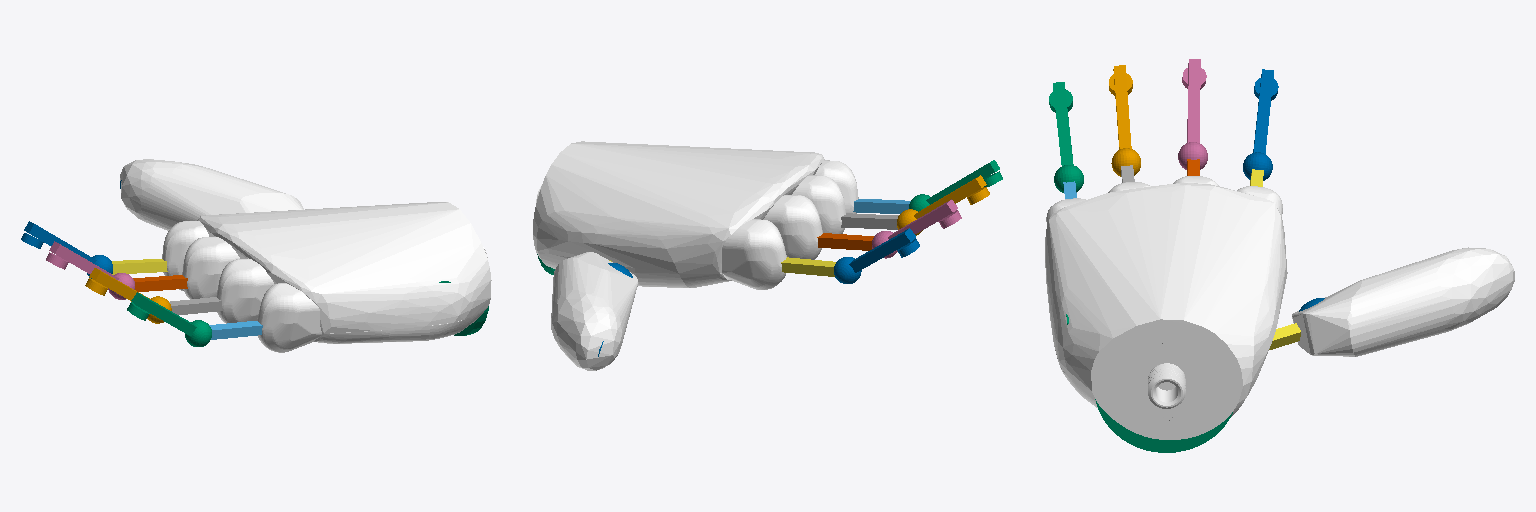
--- Facts derived from the render (not from the file) ---
3 views of the same robot in one strip: view 1: azimuth 30°, elevation 25°; view 2: azimuth 150°, elevation 25°; view 3: azimuth 270°, elevation 25° (orthographic).
Robot: panda — 21 links, 20 joints (17 revolute, 3 fixed); root link panda_link0; default pose: joints at zero except 1 at the middle of their limits (panda_joint4 = -1.57).
Links seen in each view (by area): view 1: wrist, thumb_L2, pinky_L2, middle_L2, ring_L2, index_L2, pinky_L1, middle_L1, index_L1, ring_L1; view 2: wrist, thumb_L2, index_L2, middle_L2, ring_L2, pinky_L2, ring_L1, middle_L1, index_L1, pinky_L1; view 3: wrist, thumb_L2, index_L2, middle_L2, ring_L2, pinky_L2.
Boxes of the visible links, x1,y1,x2,y2 form: wrist: (162, 202, 491, 352); thumb_L2: (120, 159, 303, 230); pinky_L2: (127, 292, 211, 346); middle_L2: (46, 241, 134, 299); ring_L2: (85, 268, 171, 323); index_L2: (21, 221, 112, 278); pinky_L1: (209, 321, 262, 339); middle_L1: (133, 275, 187, 291); index_L1: (112, 259, 167, 274); ring_L1: (169, 297, 221, 314); wrist: (533, 141, 858, 289); thumb_L2: (551, 252, 637, 370); index_L2: (834, 228, 919, 283); middle_L2: (872, 199, 961, 258); ring_L2: (897, 175, 989, 235); pinky_L2: (909, 160, 1002, 211); ring_L1: (841, 213, 898, 229); middle_L1: (817, 233, 873, 250); index_L1: (781, 257, 835, 276); pinky_L1: (853, 199, 910, 213); wrist: (1045, 176, 1287, 452); thumb_L2: (1292, 247, 1514, 356); index_L2: (1243, 69, 1278, 180); middle_L2: (1178, 59, 1207, 169); ring_L2: (1109, 65, 1140, 176); pinky_L2: (1049, 82, 1083, 192).
Size in the robot's own frame: 0.1767 by 0.1565 by 0.0689 metres.
2 mesh visuals loaded from 14 distinct referenced files (2 binary STL); not drawn: 13 (reference not matched to a file when rendering), 5 (file found but could not be loaded).

URDF robot description (panda):
<?xml version="1.0" encoding="utf-8"?>
<robot name="panda">
  <material name="panda_white">
    <color rgba="1 1 1 1"/>
  </material>
  <material name="panda_gray">
    <color rgba="0.4 0.4 0.4 1"/>
  </material>
  <material name="silver">
    <color rgba="0.5 0.5 0.5 1"/>
  </material>
  <link name="panda_link0">
    <visual>
      <geometry>
        <mesh filename="meshes/visual/link0.dae"/>
      </geometry>
      <material name="panda_gray"/>
    </visual>
    <collision>
      <geometry>
        <mesh filename="meshes/collision/link0.stl"/>
      </geometry>
    </collision>
  </link>
  <link name="panda_link1">
    <visual>
      <geometry>
        <mesh filename="meshes/visual/link1.dae"/>
      </geometry>
      <material name="panda_white"/>
    </visual>
    <collision>
      <geometry>
        <mesh filename="meshes/collision/link1.stl"/>
      </geometry>
    </collision>
    <inertial>
      <origin rpy="0 0 0" xyz="3.875e-03 2.081e-03 -0.1750"/>
      <mass value="4.970684"/>
      <inertia ixx="7.0337e-01" ixy="-1.3900e-04" ixz="6.7720e-03" iyy="7.0661e-01" iyz="1.9169e-02" izz="9.1170e-03"/>
    </inertial>
  </link>
  <joint name="panda_joint1" type="revolute">
    <safety_controller k_position="100.0" k_velocity="40.0" soft_lower_limit="-2.8973" soft_upper_limit="2.8973"/>
    <origin rpy="0 0 0" xyz="0 0 0.333"/>
    <parent link="panda_link0"/>
    <child link="panda_link1"/>
    <axis xyz="0 0 1"/>
    <limit effort="87" lower="-2.8973" upper="2.8973" velocity="2.1750"/>
    <dynamics damping="10.0" friction="5.0"/>
  </joint>
  <link name="panda_link2">
    <visual>
      <geometry>
        <mesh filename="meshes/visual/link2.dae"/>
      </geometry>
      <material name="panda_white"/>
    </visual>
    <collision>
      <geometry>
        <mesh filename="meshes/collision/link2.stl"/>
      </geometry>
    </collision>
    <inertial>
      <origin rpy="0 0 0" xyz="-3.141e-03 -2.872e-02 3.495e-03"/>
      <mass value="0.646926"/>
      <inertia ixx="7.9620e-03" ixy="-3.9250e-03" ixz="1.0254e-02" iyy="2.8110e-02" iyz="7.0400e-04" izz="2.5995e-02"/>
    </inertial>
  </link>
  <joint name="panda_joint2" type="revolute">
    <safety_controller k_position="100.0" k_velocity="40.0" soft_lower_limit="-1.7628" soft_upper_limit="1.7628"/>
    <origin rpy="-1.57079632679 0 0" xyz="0 0 0"/>
    <parent link="panda_link1"/>
    <child link="panda_link2"/>
    <axis xyz="0 0 1"/>
    <limit effort="87" lower="-1.7628" upper="1.7628" velocity="2.1750"/>
    <dynamics damping="5.0" friction="2.0"/>
  </joint>
  <link name="panda_link3">
    <visual>
      <geometry>
        <mesh filename="meshes/visual/link3.dae"/>
      </geometry>
      <material name="panda_white"/>
    </visual>
    <collision>
      <geometry>
        <mesh filename="meshes/collision/link3.stl"/>
      </geometry>
    </collision>
    <inertial>
      <origin rpy="0 0 0" xyz="2.7518e-02 3.9252e-02 -6.6502e-02"/>
      <mass value="3.228604"/>
      <inertia ixx="3.7242e-02" ixy="-4.7610e-03" ixz="-1.1396e-02" iyy="3.6155e-02" iyz="-1.2805e-02" izz="1.0830e-02"/>
    </inertial>
  </link>
  <joint name="panda_joint3" type="revolute">
    <safety_controller k_position="100.0" k_velocity="40.0" soft_lower_limit="-2.8973" soft_upper_limit="2.8973"/>
    <origin rpy="1.57079632679 0 0" xyz="0 -0.316 0"/>
    <parent link="panda_link2"/>
    <child link="panda_link3"/>
    <axis xyz="0 0 1"/>
    <limit effort="87" lower="-2.8973" upper="2.8973" velocity="2.1750"/>
    <dynamics damping="5.0" friction="2.0"/>
  </joint>
  <link name="panda_link4">
    <visual>
      <geometry>
        <mesh filename="meshes/visual/link4.dae"/>
      </geometry>
      <material name="panda_white"/>
    </visual>
    <collision>
      <geometry>
        <mesh filename="meshes/collision/link4.stl"/>
      </geometry>
    </collision>
    <inertial>
      <origin rpy="0 0 0" xyz="-5.317e-02 1.04419e-01 2.7454e-02"/>
      <mass value="3.587895"/>
      <inertia ixx="2.5853e-02" ixy="7.7960e-03" ixz="-1.3320e-03" iyy="1.9552e-02" iyz="8.6410e-03" izz="2.8323e-02"/>
    </inertial>
  </link>
  <joint name="panda_joint4" type="revolute">
    <safety_controller k_position="100.0" k_velocity="40.0" soft_lower_limit="-3.0718" soft_upper_limit="-0.0698"/>
    <origin rpy="1.57079632679 0 0" xyz="0.0825 0 0"/>
    <parent link="panda_link3"/>
    <child link="panda_link4"/>
    <axis xyz="0 0 1"/>
    <limit effort="87" lower="-3.0718" upper="-0.0698" velocity="2.1750"/>
    <dynamics damping="1.0" friction="0.5"/>
  </joint>
  <link name="panda_link5">
    <visual>
      <geometry>
        <mesh filename="meshes/visual/link5.dae"/>
      </geometry>
      <material name="panda_white"/>
    </visual>
    <collision>
      <geometry>
        <mesh filename="meshes/collision/link5.stl"/>
      </geometry>
    </collision>
    <inertial>
      <origin rpy="0 0 0" xyz="-1.1953e-02 4.1065e-02 -3.8437e-02"/>
      <mass value="1.225946"/>
      <inertia ixx="3.5549e-02" ixy="-2.1170e-03" ixz="-4.0370e-03" iyy="2.9474e-02" iyz="2.2900e-04" izz="8.6270e-03"/>
    </inertial>
  </link>
  <joint name="panda_joint5" type="revolute">
    <safety_controller k_position="100.0" k_velocity="40.0" soft_lower_limit="-2.8973" soft_upper_limit="2.8973"/>
    <origin rpy="-1.57079632679 0 0" xyz="-0.0825 0.384 0"/>
    <parent link="panda_link4"/>
    <child link="panda_link5"/>
    <axis xyz="0 0 1"/>
    <limit effort="12" lower="-2.8973" upper="2.8973" velocity="2.6100"/>
    <dynamics damping="2.0" friction="1.0"/>
  </joint>
  <link name="panda_link6">
    <visual>
      <geometry>
        <mesh filename="meshes/visual/link6.dae"/>
      </geometry>
      <material name="panda_white"/>
    </visual>
    <collision>
      <geometry>
        <mesh filename="meshes/collision/link6.stl"/>
      </geometry>
    </collision>
    <inertial>
      <origin rpy="0 0 0" xyz="6.0149e-02 -1.4117e-02 -1.0517e-02"/>
      <mass value="1.666555"/>
      <inertia ixx="1.9640e-03" ixy="1.0900e-04" ixz="-1.1580e-03" iyy="4.3540e-03" iyz="3.4100e-04" izz="5.4330e-03"/>
    </inertial>
  </link>
  <joint name="panda_joint6" type="revolute">
    <safety_controller k_position="100.0" k_velocity="40.0" soft_lower_limit="-0.0175" soft_upper_limit="3.7525"/>
    <origin rpy="1.57079632679 0 0" xyz="0 0 0"/>
    <parent link="panda_link5"/>
    <child link="panda_link6"/>
    <axis xyz="0 0 1"/>
    <limit effort="12" lower="-0.0175" upper="3.7525" velocity="2.6100"/>
    <dynamics damping="1.0" friction="0.5"/>
  </joint>
  <link name="panda_link7">
    <visual>
      <geometry>
        <mesh filename="meshes/visual/link7.dae"/>
      </geometry>
      <material name="panda_gray"/>
    </visual>
    <collision>
      <geometry>
        <mesh filename="meshes/collision/link7.stl"/>
      </geometry>
    </collision>
    <inertial>
      <origin rpy="0 0 0" xyz="1.0517e-02 -4.252e-03 6.1597e-02"/>
      <mass value="7.35522e-01"/>
      <inertia ixx="1.2516e-02" ixy="-4.2800e-04" ixz="-1.1960e-03" iyy="1.0027e-02" iyz="-7.4100e-04" izz="4.8150e-03"/>
    </inertial>
  </link>
  <joint name="panda_joint7" type="revolute">
    <safety_controller k_position="100.0" k_velocity="40.0" soft_lower_limit="-2.8973" soft_upper_limit="2.8973"/>
    <origin rpy="1.57079632679 0 0" xyz="0.088 0 0"/>
    <parent link="panda_link6"/>
    <child link="panda_link7"/>
    <axis xyz="0 0 1"/>
    <limit effort="12" lower="-2.8973" upper="2.8973" velocity="2.6100"/>
    <dynamics damping="1.0" friction="0.5"/>
  </joint>
  <link name="panda_link8">
    <inertial>
      <origin rpy="0 0 0" xyz="0 0 0"/>
      <mass value="0.0"/>
      <inertia ixx="0.001" ixy="0.0" ixz="0.0" iyy="0.001" iyz="0.0" izz="0.001"/>
    </inertial>
  </link>
  <joint name="panda_joint8" type="fixed">
    <origin rpy="0 0 0" xyz="0 0 0.107"/>
    <parent link="panda_link7"/>
    <child link="panda_link8"/>
    <axis xyz="0 0 0"/>
  </joint>
  <link name="wrist_connector">
    <visual>
      <origin rpy="0 0 0" xyz="0 0 0"/>
      <geometry>
        <mesh scale="0.001 0.001 0.001" filename="meshes/visual/connector.stl"/>
      </geometry>
      <material name="panda_white"/>
    </visual>
  </link>
  <joint name="arm_to_connector" type="fixed">
    <origin xyz="0 0 0.008" rpy="1.57 0 1.57"/>
    <parent link="panda_link8"/>
    <child link="wrist_connector"/>
    <axis xyz="0 0 0"/>
  </joint>
  <link name="wrist">
    <inertial>
      <mass value="0.400"/>
      <inertia ixx="978.26e-6" ixy="87.34e-6" ixz="322.99e-6" iyy="1244.78e-6" iyz="244.74e-6" izz="456.22e-6"/>
      <origin xyz="22.41911e-3 -0.15798201e-3 -0.01319866e-3" rpy="0 0 0"/>
    </inertial>
    <!--WristPlateBone-->
    <visual>
      <origin xyz="27.412417e-3 -0.454432e-3 26.510489e-3" rpy="0.006361 -0.088345 3.069623"/>
      <geometry>
        <cylinder length="3.9e-3" radius="24.05e-3"/>
      </geometry>
    </visual>
    <!--Wrist Bone 2-->
    <visual>
      <origin xyz="36.796220e-3 -8.001000e-3 12.124025e-3" rpy="-3.086612 -0.059956 2.398653"/>
      <geometry>
        <cylinder length="25.000660e-3" radius="3.500000e-3"/>
      </geometry>
    </visual>
    <!--Wrist Bone-->
    <visual>
      <origin xyz="8.509640e-3 -8.001000e-3 14.636040e-3" rpy="-0.059614 0.065548 -0.738965"/>
      <geometry>
        <cylinder length="25.000001e-3" radius="3.500000e-3"/>
      </geometry>
    </visual>
    <!--Bar Bone-->
    <visual>
      <origin xyz="25.349180e-3 -8.001000e-3 0.000000e-3" rpy="1.570796 -0.785398 -1.570796"/>
      <geometry>
        <cylinder length="66.000000e-3" radius="7.00000e-3"/>
      </geometry>
    </visual>
    <!--Pinky Bone-->
    <visual>
      <origin xyz="50.889805e-3 -8.753450e-3 -29.632815e-3" rpy="-0.076208 -0.019754 -0.799369"/>
      <geometry>
        <cylinder length="67.000008e-3" radius="3.500000e-3"/>
      </geometry>
    </visual>
    <!--Ringbone Bone-->
    <visual>
      <origin xyz="31.064135e-3 -10.290505e-3 -34.034900e-3" rpy="-0.103572 -0.064539 -0.831114"/>
      <geometry>
        <cylinder length="67.000202e-3" radius="3.500000e-3"/>
      </geometry>
    </visual>
    <!--Middlebone Bone-->
    <visual>
      <origin xyz="12.268540e-3 -12.148345e-3 -34.606210e-3" rpy="-0.122139 -0.012729 -0.794400"/>
      <geometry>
        <cylinder length="67.000001e-3" radius="3.500000e-3"/>
      </geometry>
    </visual>
    <!--Index Bone-->
    <visual>
      <origin xyz="-5.830855e-3 -10.981725e-3 -33.241905e-3" rpy="-0.133914 0.042071 -0.755627"/>
      <geometry>
        <cylinder length="59.999993e-3" radius="3.500000e-3"/>
      </geometry>
    </visual>
    <visual>
      <origin rpy="0 0 0" xyz="0 0 0"/>
      <geometry>
        <mesh filename="meshes/visual/FB_palm_ref.stl"/>
      </geometry>
      <material name="panda_white"/>
    </visual>
  </link>
  <joint name="connector_to_wrist" type="fixed">
    <origin xyz="-0.024 0.076 0.005" rpy="1.57 0 -0.09"/>
    <parent link="wrist_connector"/>
    <child link="wrist"/>
    <axis xyz="0 0 0"/>
  </joint>
  <link name="index_L1">
    <inertial>
      <mass value="0.00635888"/>
      <inertia ixx="0.29766e-6" ixy="-0.06447133e-6" ixz="-0.00423315e-6" iyy="3.6947967e-6" iyz="0.00083028e-6" izz="3.8176336e-6"/>
      <origin xyz="22.41911e-3 -0.15798201e-3 -0.01319866e-3" rpy="0 0 0"/>
    </inertial>
    <visual>
      <origin xyz="0 0 0" rpy="0 0 0"/>
      <geometry>
        <!--<cylinder length="8" radius="7"/>-->
        <sphere radius="7e-3"/>
      </geometry>
    </visual>
    <visual>
      <origin xyz="19.23500e-3 1.62500e-3 0" rpy="0 0 0.084474"/>
      <geometry>
        <box size="38.6070382e-3 4e-3 4e-3"/>
      </geometry>
    </visual>
    <visual>
      <origin xyz="38.472723e-3 3.257695e-3 0.000000" rpy="0 0 0.084474"/>
      <geometry>
        <mesh filename="meshes/visual/idx-F1.stl"/>
      </geometry>
      <material name="panda_white"/>
    </visual>
  </link>
  <link name="index_L2">
    <inertial>
      <mass value="0.00645"/>
      <inertia ixx="0.82671e-6" ixy="-1.08876e-6" ixz="-0.00037e-6" iyy="1.98028e-6" iyz="0.00081e-6" izz="2.64638e-6"/>
      <origin rpy="0 0 0" xyz="13.36818e-3 -8.75392e-3 -0.02886e-3"/>
    </inertial>
    <visual>
      <origin xyz="0 0 0" rpy="0 0 0"/>
      <geometry>
        <sphere radius="5e-3"/>
      </geometry>
    </visual>
    <visual>
      <origin xyz="15.5333e-3 -8.501e-3 0" rpy="0 0 -0.500734962"/>
      <geometry>
        <box size="35.41e-3 4e-3 4e-3"/>
      </geometry>
    </visual>
    <visual>
      <origin xyz="29.159500e-3 -11.643970e-3 -0.148280e-3" rpy="1.5708 0 -0.420107"/>
      <geometry>
        <cylinder length="3e-3" radius="4e-3"/>
      </geometry>
    </visual>
    <visual>
      <origin rpy="0 0 0" xyz="9.1241e-3 0 0"/>
      <geometry>
        <mesh filename="meshes/visual/idx-F2.stl"/>
      </geometry>
      <material name="panda_white"/>
    </visual>
  </link>
  <joint name="index_q1" type="revolute">
    <parent link="wrist"/>
    <child link="index_L1"/>
    <origin xyz="-9.49e-3 -13.04e-3 -62.95e-3" rpy="-1.982050 1.284473 -2.090591"/>
    <axis xyz="0 0 1"/>
    <limit lower="0" upper="2.0943951" effort="0.20" velocity="8.0677777442"/>
    <!-- angles in rad, efforts in N-m, velocity in rad/s -->
    <dynamics damping="0.001" friction="0.001"/>
    <!-- Friction coefficient is not from quantitative measurement -->
  </joint>
  <joint name="index_q2" type="revolute">
    <parent link="index_L1"/>
    <child link="index_L2"/>
    <origin xyz="38.472723e-3 3.257695e-3 0.000000e-3" rpy="0 0 0.084474"/>
    <axis xyz="0 0 1"/>
    <limit lower="0.0" upper="2.6586" effort="0.20" velocity="8.0677777442"/>
    <!-- angles in rad, efforts in N-m, velocity in rad/s -->
    <dynamics damping="0.001" friction="0.001"/>
    <!-- Friction coefficient is not from quantitative measurement -->
  </joint>
  <link name="middle_L1">
    <inertial>
      <mass value="0.00635888"/>
      <inertia ixx="0.29766e-6" ixy="-0.06447133e-6" ixz="-0.00423315e-6" iyy="3.6947967e-6" iyz="0.00083028e-6" izz="3.8176336e-6"/>
      <origin xyz="22.41911e-3 -0.15798201e-3 -0.01319866e-3" rpy="0 0 0"/>
    </inertial>
    <visual>
      <origin xyz="0 0 0" rpy="0 0 0"/>
      <geometry>
        <!--<cylinder length="8" radius="7"/>-->
        <sphere radius="7e-3"/>
      </geometry>
    </visual>
    <visual>
      <origin xyz="19.23500e-3 1.62500e-3 0" rpy="0 0 0.084474"/>
      <geometry>
        <box size="38.6070382e-3 4e-3 4e-3"/>
      </geometry>
    </visual>
    <visual>
      <origin xyz="38.472723e-3 3.257695e-3 0.000000" rpy="0 0 0.084474"/>
      <geometry>
        <mesh filename="meshes/visual/idx-F1.stl"/>
      </geometry>
      <material name="panda_white"/>
    </visual>
  </link>
  <link name="middle_L2">
    <inertial>
      <mass value="0.00645"/>
      <inertia ixx="0.82671e-6" ixy="-1.08876e-6" ixz="-0.00037e-6" iyy="1.98028e-6" iyz="0.00081e-6" izz="2.64638e-6"/>
      <origin rpy="0 0 0" xyz="13.36818e-3 -8.75392e-3 -0.02886e-3"/>
    </inertial>
    <visual>
      <origin xyz="0 0 0" rpy="0 0 0"/>
      <geometry>
        <sphere radius="5e-3"/>
      </geometry>
    </visual>
    <visual>
      <origin xyz="15.5333e-3 -8.501e-3 0" rpy="0 0 -0.500734962"/>
      <geometry>
        <box size="35.41e-3 4e-3 4e-3"/>
      </geometry>
    </visual>
    <visual>
      <origin xyz="29.159500e-3 -11.643970e-3 -0.148280e-3" rpy="1.5708 0 -0.420107"/>
      <geometry>
        <cylinder length="3e-3" radius="4e-3"/>
      </geometry>
    </visual>
    <visual>
      <origin rpy="0 0 0" xyz="9.1241e-3 0 0"/>
      <geometry>
        <mesh filename="meshes/visual/idx-F2.stl"/>
      </geometry>
      <material name="panda_white"/>
    </visual>
  </link>
  <joint name="middle_q1" type="revolute">
    <parent link="wrist"/>
    <child link="middle_L1"/>
    <origin xyz="9.653191e-3 -15.310271e-3 -67.853949e-3" rpy="-1.860531 1.308458 -1.896217"/>
    <limit lower="0" upper="2.0943951" effort="0.20" velocity="8.0677777442"/>
    <!-- angles in rad, efforts in N-m, velocity in rad/s -->
    <dynamics damping="0.001" friction="0.001"/>
    <!-- Friction coefficient is not from quantitative measurement -->
    <axis xyz="0 0 1"/>
  </joint>
  <joint name="middle_q2" type="revolute">
    <parent link="middle_L1"/>
    <child link="middle_L2"/>
    <origin xyz="38.472723e-3 3.257695e-3 0.000000" rpy="0 0 0.084474"/>
    <axis xyz="0 0 1"/>
    <limit lower="0.0" upper="2.6586" effort="0.20" velocity="8.0677777442"/>
    <!-- angles in rad, efforts in N-m, velocity in rad/s -->
    <dynamics damping="0.001" friction="0.001"/>
    <!-- Friction coefficient is not from quantitative measurement -->
  </joint>
  <link name="ring_L1">
    <inertial>
      <mass value="0.00635888"/>
      <inertia ixx="0.29766e-6" ixy="-0.06447133e-6" ixz="-0.00423315e-6" iyy="3.6947967e-6" iyz="0.00083028e-6" izz="3.8176336e-6"/>
      <origin xyz="22.41911e-3 -0.15798201e-3 -0.01319866e-3" rpy="0 0 0"/>
    </inertial>
    <visual>
      <origin xyz="0 0 0" rpy="0 0 0"/>
      <geometry>
        <sphere radius="7e-3"/>
        <!--<cylinder length="8" radius="7"/>-->
      </geometry>
    </visual>
    <visual>
      <origin xyz="19.23500e-3 1.62500e-3 0" rpy="0 0 0.084474"/>
      <geometry>
        <box size="38.6070382e-3 4e-3 4e-3"/>
      </geometry>
    </visual>
    <visual>
      <origin xyz="38.472723e-3 3.257695e-3 0.000000" rpy="0 0 0.084474"/>
      <geometry>
        <mesh filename="meshes/visual/idx-F1.stl"/>
      </geometry>
      <material name="panda_white"/>
    </visual>
  </link>
  <link name="ring_L2">
    <inertial>
      <mass value="0.00645"/>
      <inertia ixx="0.82671e-6" ixy="-1.08876e-6" ixz="-0.00037e-6" iyy="1.98028e-6" iyz="0.00081e-6" izz="2.64638e-6"/>
      <origin rpy="0 0 0" xyz="13.36818e-3 -8.75392e-3 -0.02886e-3"/>
    </inertial>
    <visual>
      <origin xyz="0 0 0" rpy="0 0 0"/>
      <geometry>
        <sphere radius="5e-3"/>
      </geometry>
    </visual>
    <visual>
      <origin xyz="15.5333e-3 -8.501e-3 0" rpy="0 0 -0.500734962"/>
      <geometry>
        <box size="35.41e-3 4e-3 4e-3"/>
      </geometry>
    </visual>
    <visual>
      <origin xyz="29.159500e-3 -11.643970e-3 -0.148280e-3" rpy="1.5708 0 -0.420107"/>
      <geometry>
        <cylinder length="3e-3" radius="4e-3"/>
      </geometry>
    </visual>
    <visual>
      <origin rpy="0 0 0" xyz="9.1241e-3 0 0"/>
      <geometry>
        <mesh filename="meshes/visual/idx-F2.stl"/>
      </geometry>
      <material name="panda_white"/>
    </visual>
  </link>
  <joint name="ring_q1" type="revolute">
    <parent link="wrist"/>
    <child link="ring_L1"/>
    <origin xyz="29.954260e-3 -14.212492e-3 -67.286105e-3" rpy="-1.716598 1.321452 -1.675862"/>
    <limit lower="0" upper="2.0943951" effort="0.20" velocity="8.0677777442"/>
    <!-- angles in rad, efforts in N-m, velocity in rad/s -->
    <dynamics damping="0.001" friction="0.001"/>
    <!-- Friction coefficient is not from quantitative measurement -->
    <axis xyz="0 0 1"/>
  </joint>
  <joint name="ring_q2" type="revolute">
    <parent link="ring_L1"/>
    <child link="ring_L2"/>
    <origin xyz="38.472723e-3 3.257695e-3 0.000000" rpy="0 0 0.084474"/>
    <axis xyz="0 0 1"/>
    <limit lower="0.0" upper="2.6586" effort="0.20" velocity="8.0677777442"/>
    <!-- angles in rad, efforts in N-m, velocity in rad/s -->
    <dynamics damping="0.001" friction="0.001"/>
    <!-- Friction coefficient is not from quantitative measurement -->
  </joint>
  <link name="pinky_L1">
    <inertial>
      <mass value="0.00635888"/>
      <inertia ixx="0.29766e-6" ixy="-0.06447133e-6" ixz="-0.00423315e-6" iyy="3.6947967e-6" iyz="0.00083028e-6" izz="3.8176336e-6"/>
      <origin xyz="22.41911e-3 -0.15798201e-3 -0.01319866e-3" rpy="0 0 0"/>
    </inertial>
    <visual>
      <origin xyz="0 0 0" rpy="0 0 0"/>
      <geometry>
        <sphere radius="7e-3"/>
      </geometry>
    </visual>
    <visual>
      <origin xyz="19.23500e-3 1.62500e-3 0" rpy="0 0 0.084474"/>
      <geometry>
        <box size="38.6070382e-3 4e-3 4e-3"/>
      </geometry>
    </visual>
    <visual>
      <origin xyz="38.472723e-3 3.257695e-3 0.000000" rpy="0 0 0.084474"/>
      <geometry>
        <mesh filename="meshes/visual/idx-F1.stl"/>
      </geometry>
      <material name="panda_white"/>
    </visual>
  </link>
  <link name="pinky_L2">
    <inertial>
      <mass value="0.00645"/>
      <inertia ixx="0.82671e-6" ixy="-1.08876e-6" ixz="-0.00037e-6" iyy="1.98028e-6" iyz="0.00081e-6" izz="2.64638e-6"/>
      <origin rpy="0 0 0" xyz="13.36818e-3 -8.75392e-3 -0.02886e-3"/>
    </inertial>
    <visual>
      <origin xyz="0 0 0" rpy="0 0 0"/>
      <geometry>
        <sphere radius="5e-3"/>
      </geometry>
    </visual>
    <visual>
      <origin xyz="15.5333e-3 -8.501e-3 0" rpy="0 0 -0.500734962"/>
      <geometry>
        <box size="35.41e-3 4e-3 4e-3"/>
      </geometry>
    </visual>
    <visual>
      <origin xyz="29.159500e-3 -11.643970e-3 -0.148280e-3" rpy="1.5708 0 -0.420107"/>
      <geometry>
        <cylinder length="3e-3" radius="4e-3"/>
      </geometry>
    </visual>
    <visual>
      <origin rpy="0 0 0" xyz="9.1241e-3 0 0"/>
      <geometry>
        <mesh filename="meshes/visual/idx-F2.stl"/>
      </geometry>
      <material name="panda_white"/>
    </visual>
  </link>
  <joint name="pinky_q1" type="revolute">
    <parent link="wrist"/>
    <child link="pinky_L1"/>
    <origin xyz="49.521293e-3 -11.004583e-3 -63.029065e-3" rpy="-1.765110 1.322220 -1.658383"/>
    <limit lower="0" upper="2.0943951" effort="0.20" velocity="8.0677777442"/>
    <!-- angles in rad, efforts in N-m, velocity in rad/s -->
    <dynamics damping="0.001" friction="0.001"/>
    <!-- Friction coefficient is not from quantitative measurement -->
    <axis xyz="0 0 1"/>
  </joint>
  <joint name="pinky_q2" type="revolute">
    <parent link="pinky_L1"/>
    <child link="pinky_L2"/>
    <origin xyz="38.472723e-3 3.257695e-3 0.000000" rpy="0 0 0.084474"/>
    <limit lower="0.0" upper="2.6586" effort="0.20" velocity="8.0677777442"/>
    <!-- angles in rad, efforts in N-m, velocity in rad/s -->
    <dynamics damping="0.001" friction="0.001"/>
    <!-- Friction coefficient is not from quantitative measurement -->
    <axis xyz="0 0 1"/>
  </joint>
  <link name="thumb_L1">
    <inertial>
      <mass value="0.00268342"/>
      <inertia ixx="0.16931e-6" ixy="-0.076214e-6" ixz="-0.16959148e-6" iyy="0.77769934e-6" iyz="0.0156622e-6" izz="0.7249122e-6"/>
      <origin rpy="0 0 0" xyz="14.606e-3 -1.890854e-3 -3.1155356e-3"/>
    </inertial>
    <visual>
      <origin xyz="13.851489e-3 -1.900374e-3 -6.866140e-3" rpy="0.490960 0.456500 -0.136345"/>
      <geometry>
        <box size="31.15246724e-3 5e-3 4e-3"/>
      </geometry>
    </visual>
    <visual>
      <origin xyz="0 0 0" rpy="0 0 0"/>
      <geometry>
        <sphere radius="8e-3"/>
        <!--<cylinder length = "14" radius = "7"/>-->
      </geometry>
    </visual>
    <visual>
      <origin xyz="27.8283501e-3 0 -14.7507000e-3" rpy="4.450589592585541 0 0"/>
      <geometry>
        <mesh filename="meshes/visual/thumb-F1.stl"/>
      </geometry>
      <material name="panda_white"/>
    </visual>
  </link>
  <link name="thumb_L2">
    <inertial>
      <mass value="0.0055"/>
      <inertia ixx="4.4789082e-6" ixy="4.4789082e-6" ixz="-0.62144934e-6" iyy="15.600996e-6" iyz="-0.07466143e-6" izz="17.908554e-6"/>
      <origin rpy="0 0 0" xyz="30.020522e-3 5.59476e-3 -4.1504356e-3"/>
    </inertial>
    <visual>
      <origin xyz="0 0 -3.93482782e-3" rpy="0 0 0"/>
      <!-- rotation axis cylinder -->
      <geometry>
        <sphere radius="8.9e-3"/>
        <!--<cylinder length = "7" radius = "8.9"/>-->
      </geometry>
    </visual>
    <visual>
      <origin xyz="26.851927e-3 6.766622e-3 -3.934828e-3" rpy="0.000000 -0.000000 0.462507"/>
      <geometry>
        <box size="60.93e-3 4e-3 8e-3"/>
      </geometry>
    </visual>
    <visual>
      <origin xyz="56.730453e-3 19.890903e-3 -3.934828e-3" rpy="1.570800 -0.000000 0.343830"/>
      <geometry>
        <cylinder length="7e-3" radius="7e-3"/>
      </geometry>
    </visual>
    <visual>
      <origin xyz="65.18669e-3 23.34021e-3 -3.93483e-3" rpy="3.141592 0 0.343830"/>
      <geometry>
        <mesh filename="meshes/visual/thumb-F2.stl"/>
      </geometry>
      <material name="panda_white"/>
    </visual>
  </link>
  <joint name="thumb_q1" type="revolute">
    <parent link="wrist"/>
    <child link="thumb_L1"/>
    <origin xyz="0 0 0" rpy="0 0 3.330437"/>
    <axis xyz="0 0 1"/>
    <limit lower="-2.0943951" upper="0" effort="0.20" velocity="8.0677777442"/>
    <!-- angles in rad, efforts in N-m, velocity in rad/s -->
    <dynamics damping="0.001" friction="0.001"/>
    <!-- Friction coefficient is not from quantitative measurement -->
  </joint>
  <joint name="thumb_q2" type="revolute">
    <parent link="thumb_L1"/>
    <child link="thumb_L2"/>
    <origin xyz="27.8283501e-3 0 -14.7507000e-3" rpy="4.450589592585541 0 0"/>
    <axis xyz="0 0 1"/>
    <limit lower="0" upper="2.0943951" effort="0.20" velocity="8.0677777442"/>
    <!-- angles in rad, efforts in N-m, velocity in rad/s -->
    <dynamics damping="0.001" friction="0.001"/>
    <!-- Friction coefficient is not from quantitative measurement -->
  </joint>
</robot>
